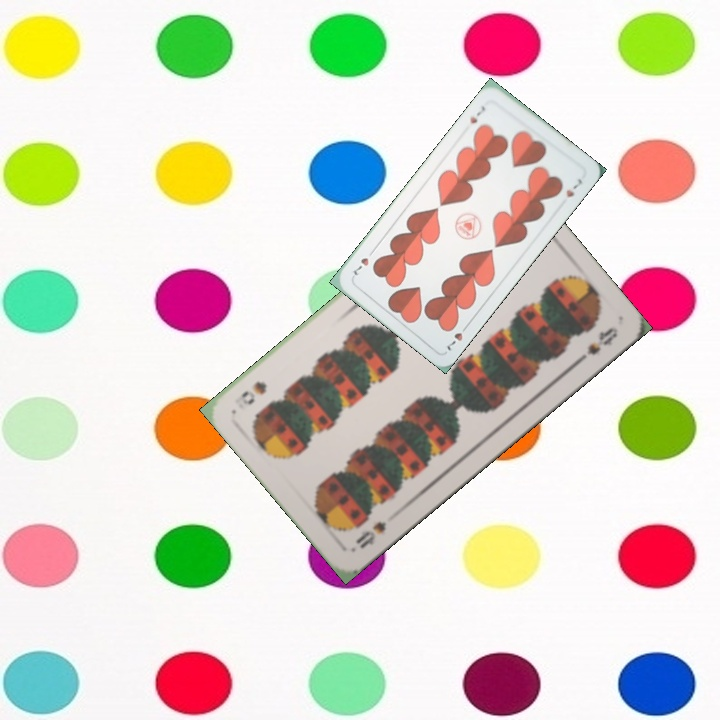H7: (443, 320, 472, 354), (466, 102, 489, 126)
S8: (351, 517, 389, 552)
